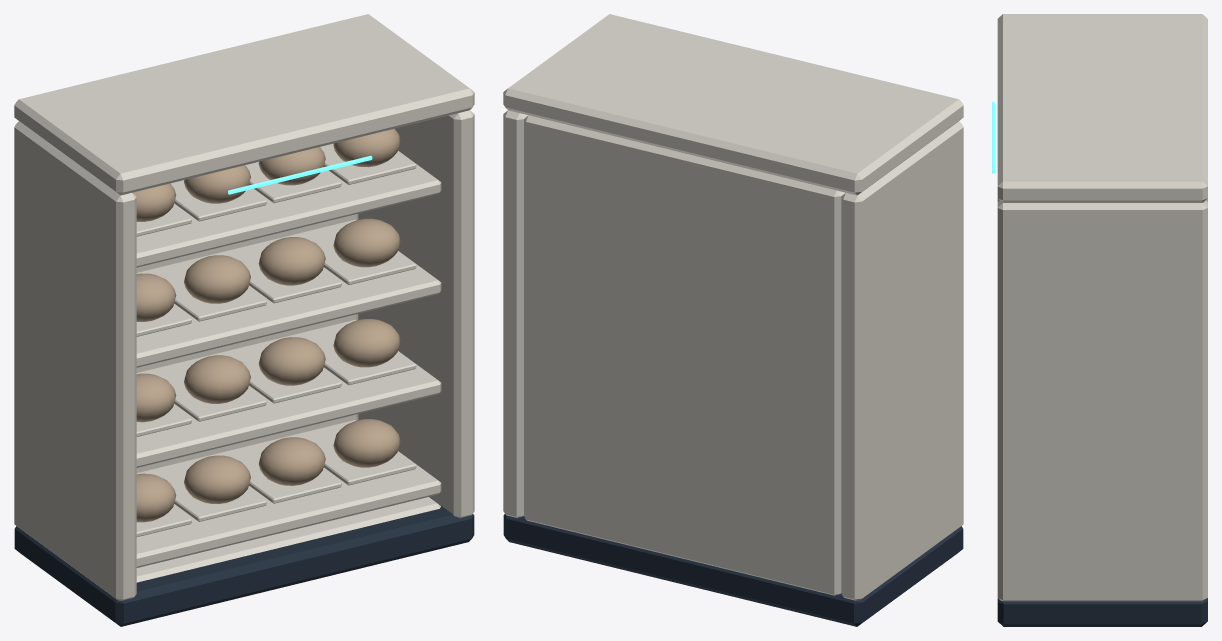
File: mall_11.glb
The picture shows the model from 3 angles, left to right: view 1: azimuth 30°, elevation 25°; view 2: azimuth 150°, elevation 25°; view 3: azimuth 270°, elevation 25°; orthographic projection.
Visible parts, largest first — view 1: Side (×2), Top, Shelf (×4), Bread (×16), Tray (×16), Base, Bottom, Back, StatusLight; view 2: Back, Side (×2), Top, Base; view 3: Side, Top, Base.
Boxes of the visible parts, bbox=[...] form: Side (×2): bbox=[14, 110, 474, 600]; Top: bbox=[14, 14, 474, 195]; Shelf (×4): bbox=[136, 151, 441, 567]; Bread (×16): bbox=[132, 128, 400, 522]; Tray (×16): bbox=[136, 143, 416, 536]; Base: bbox=[14, 497, 474, 626]; Bottom: bbox=[136, 497, 440, 582]; Back: bbox=[136, 214, 358, 472]; StatusLight: bbox=[228, 155, 372, 194]; Back: bbox=[524, 115, 845, 595]; Side (×2): bbox=[503, 110, 963, 600]; Top: bbox=[503, 14, 963, 195]; Base: bbox=[503, 514, 963, 626]; Side: bbox=[997, 200, 1207, 601]; Top: bbox=[997, 14, 1207, 202]; Base: bbox=[997, 598, 1207, 626].
Size of the model in its own units: 1.2 by 1.45 by 0.636.
